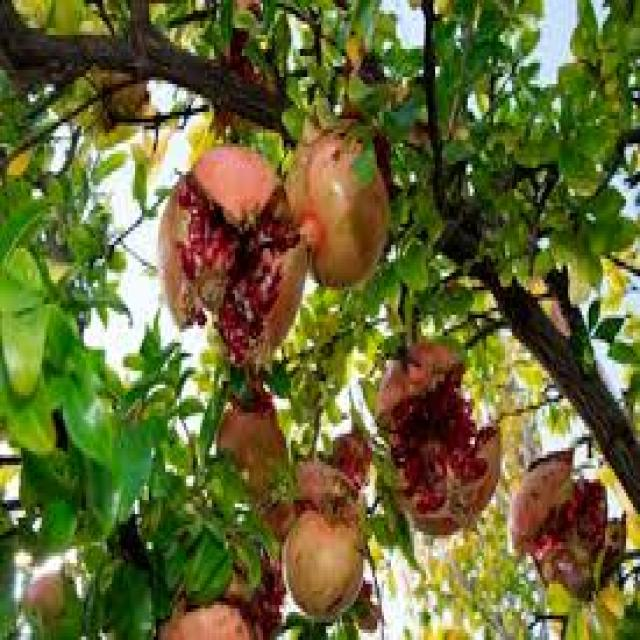overripe: (151, 146, 310, 368), (376, 333, 507, 538), (514, 448, 631, 610)
